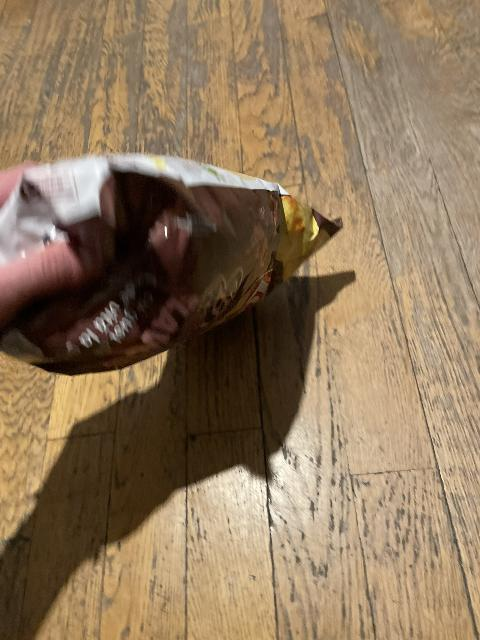Lays Beef Grilled Ribs 125g: (4, 152, 340, 379)
